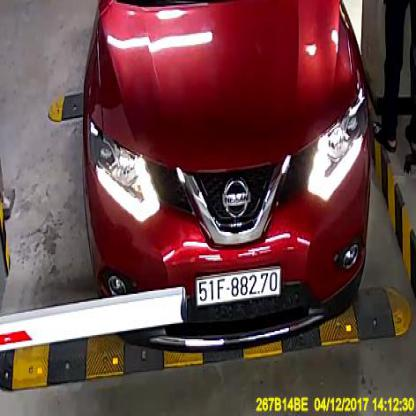biensoxe: (196, 268, 280, 306)
